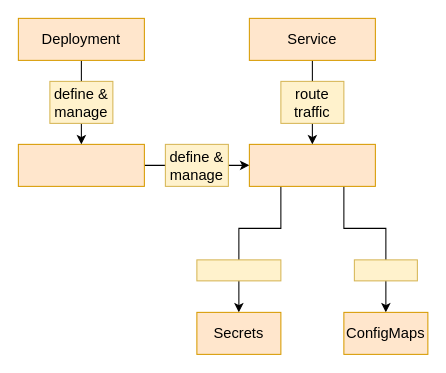
The diagram is 446 pixels wide and 373 high, and some of its shapes have lost their labels. The centre of each missing label's shape, as x and y in pixels:
"mount" goes at [385,270].
"Pods" goes at [311,164].
"reference" goes at [238,270].
"Replicaset" goes at [80,164].
